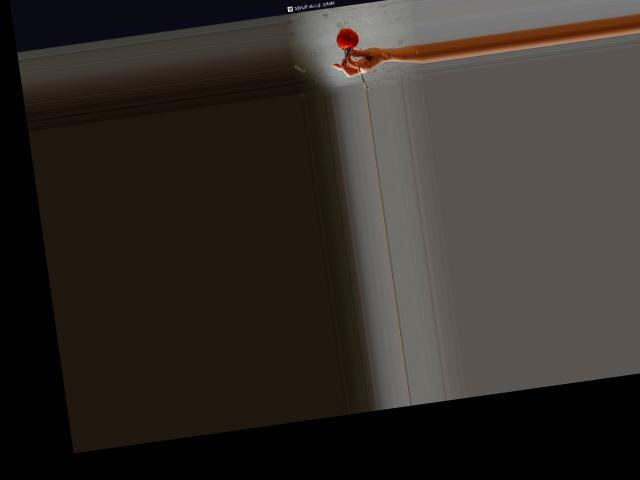tomato: (336, 26, 360, 49)
